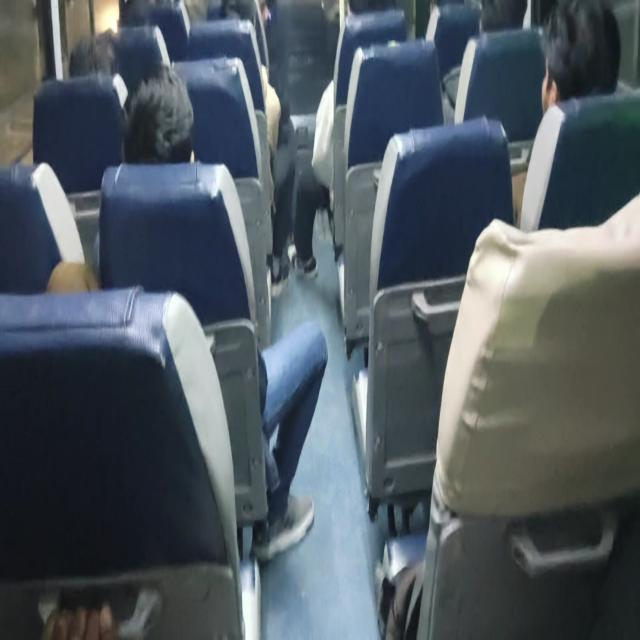person: (46, 62, 328, 564), (46, 62, 195, 293), (514, 0, 637, 231), (122, 62, 195, 164)
